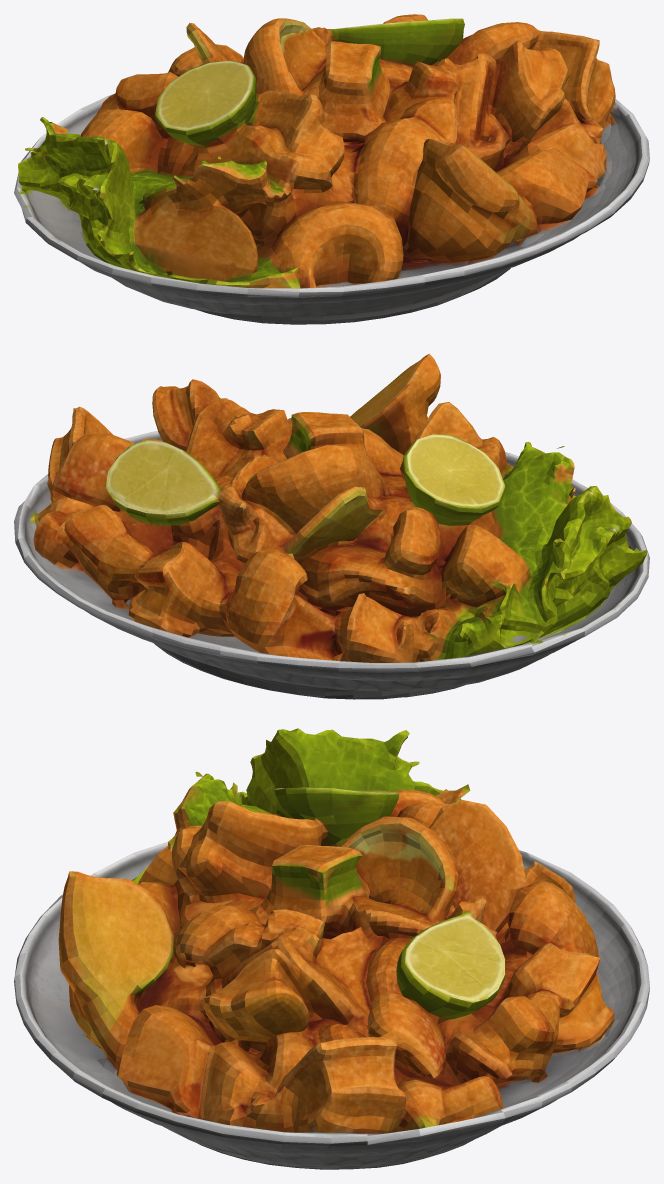
Rendered from torresmo_texture.fbx.
The picture shows the model from 3 angles, top to bottom: view 1: azimuth 30°, elevation 25°; view 2: azimuth 150°, elevation 25°; view 3: azimuth 270°, elevation 25°; orthographic projection. The views are drawn at different scales.
Parts seen in each view (by area): view 1: temp; view 2: temp; view 3: temp.
Boxes of the visible parts, box(x1,y1,x2,y2) form: temp: box(14, 14, 649, 324); temp: box(14, 353, 649, 699); temp: box(14, 728, 649, 1169).
Bounding box in the file's own units: 187 × 66.02 × 157.
Materials: 1 (1 with a texture image).
